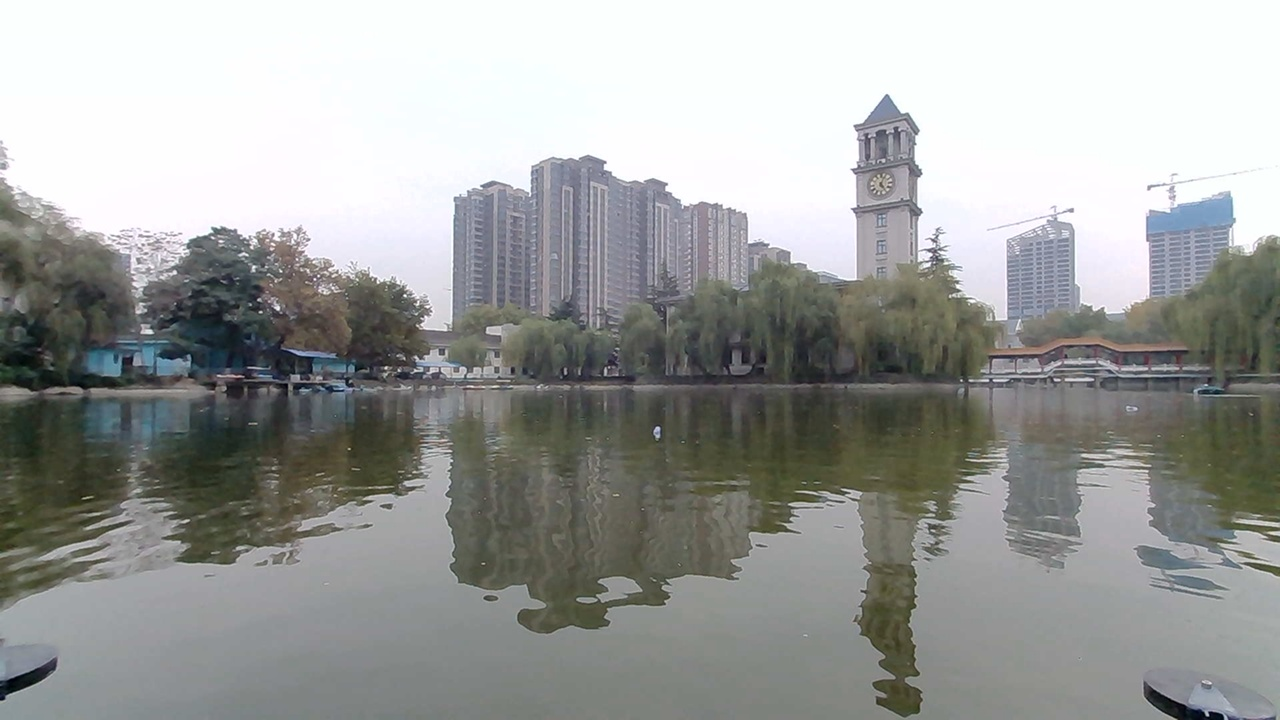bottle: (633, 411, 685, 443), (1121, 397, 1153, 416)
